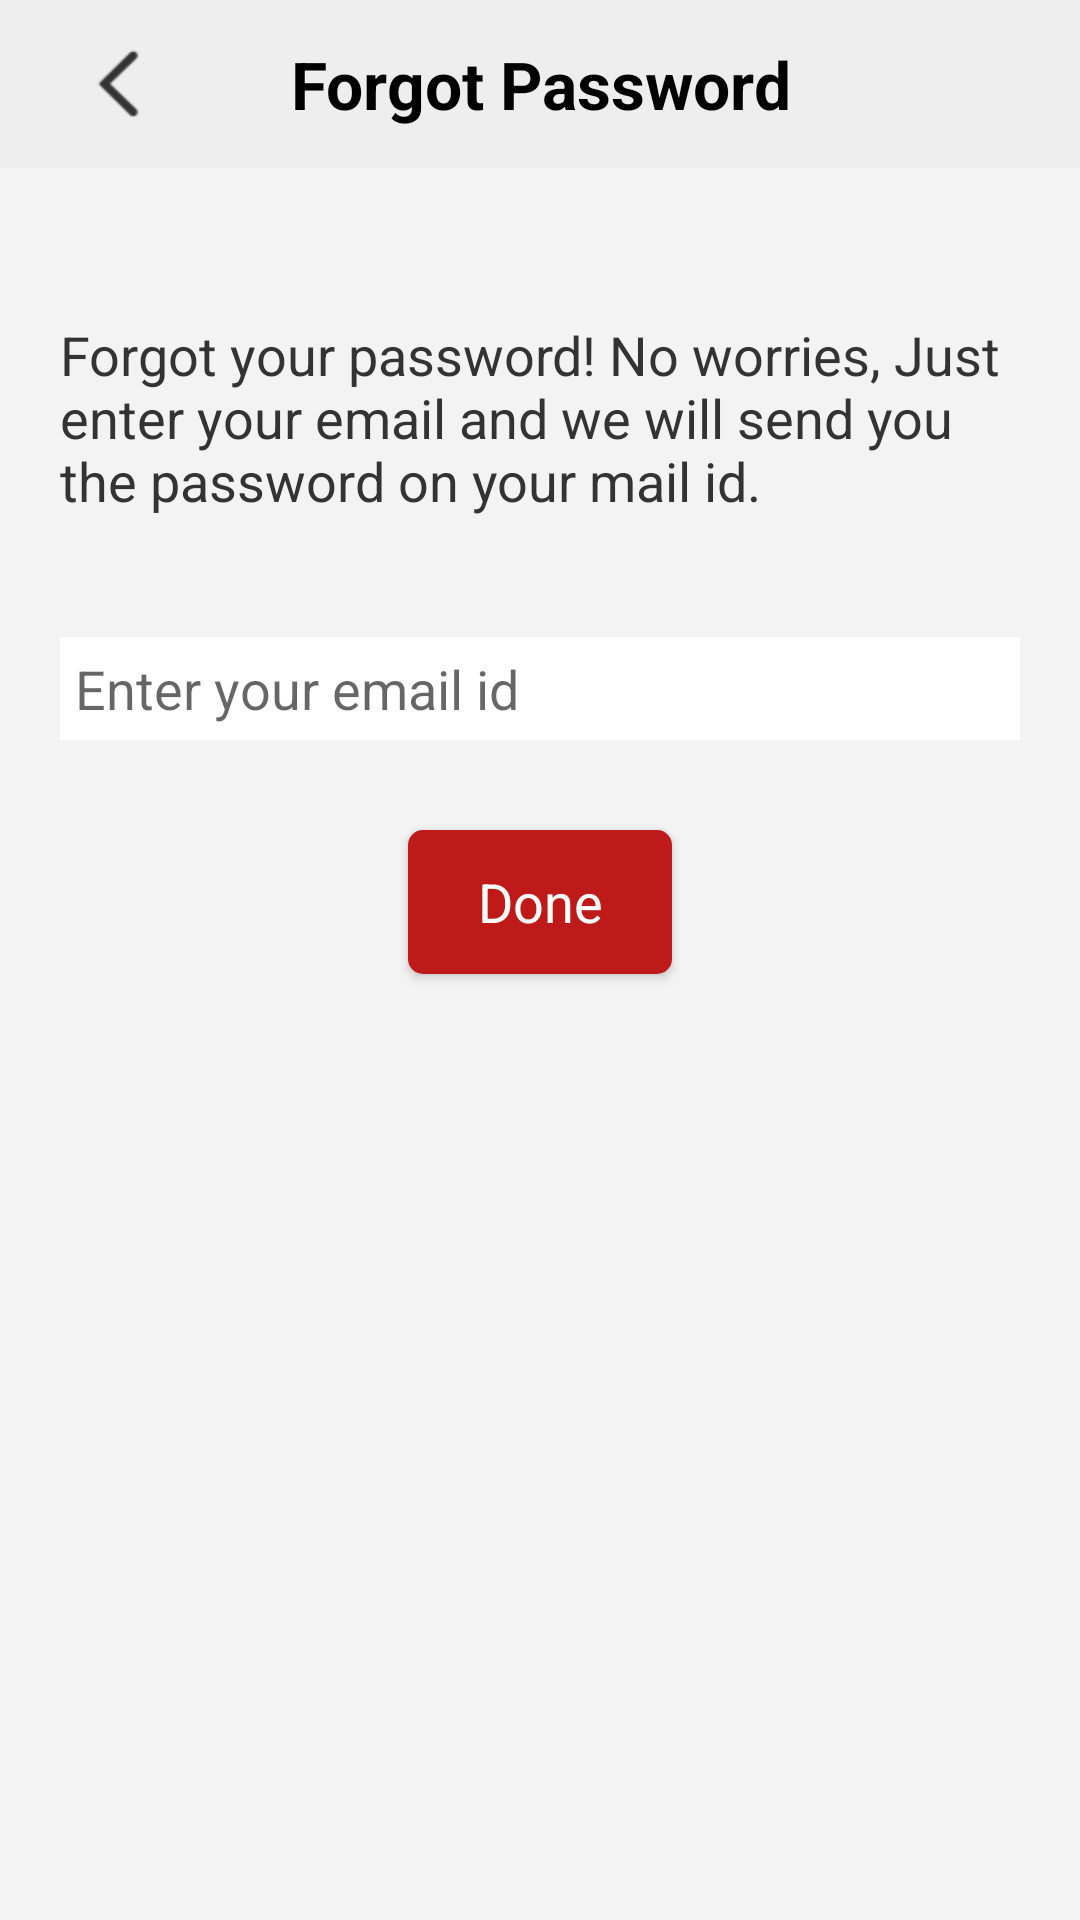

Named icons in this screenshot (1080px×1920px) and their bounding boxes, (x1, y1, x2, y2):
back: (98, 50, 139, 117)
